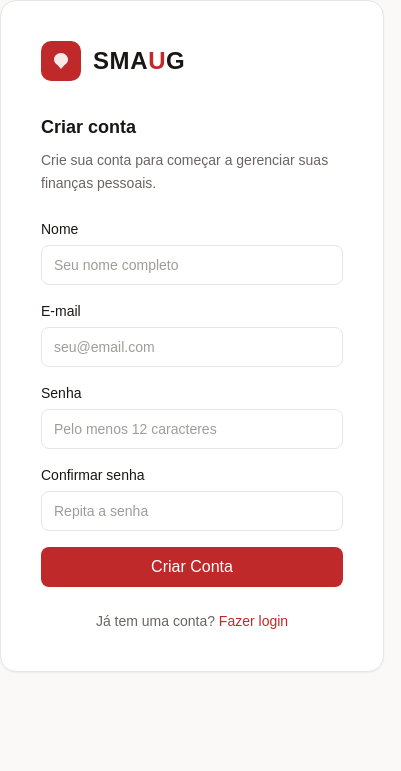
Test: página de cadastro › no TOO_MANY_REQUESTS mostra a mensagem de limite
The width and height of the screenshot is (401, 771).
Type "Maria Souza" into the field labelled "Nome" at {"x": 192, "y": 264}, box x1=41 y1=244 x2=343 y2=284
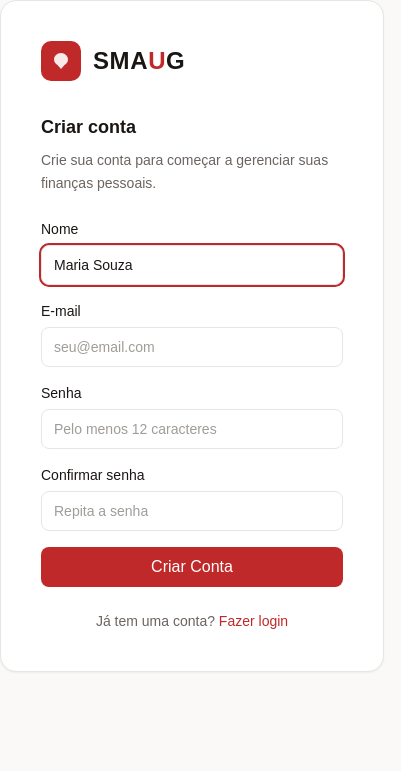
Type "maria@example.com" into the field labelled "E-mail" at {"x": 192, "y": 346}, box x1=41 y1=326 x2=343 y2=366
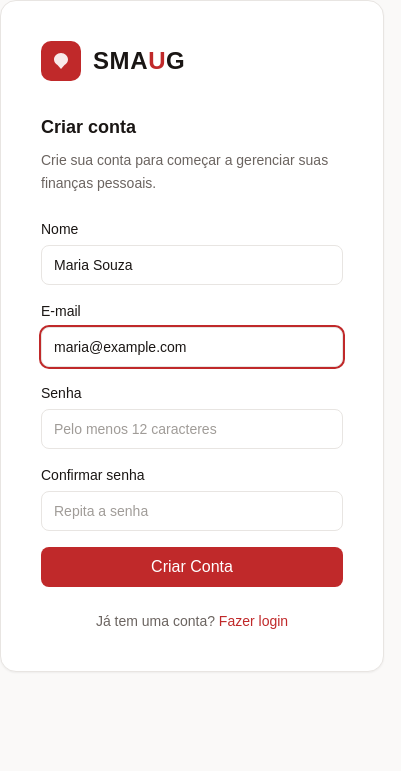
Type "senha muito segura" into the password field labelled "Senha" at {"x": 192, "y": 428}, box x1=41 y1=408 x2=343 y2=448
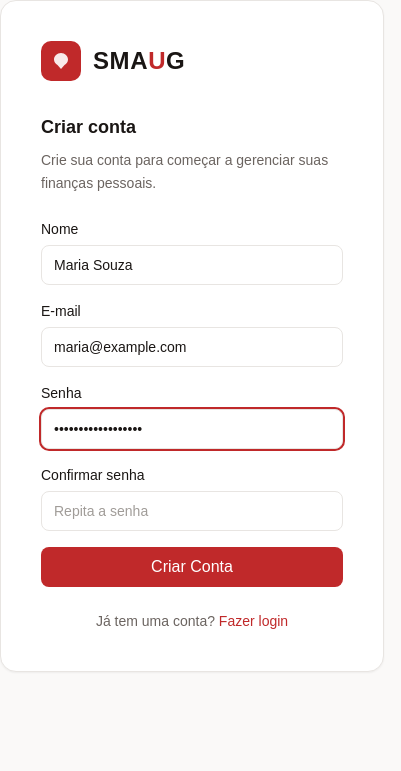
Type "senha muito segura" into the password field labelled "Confirmar senha" at {"x": 192, "y": 510}, box x1=41 y1=490 x2=343 y2=530
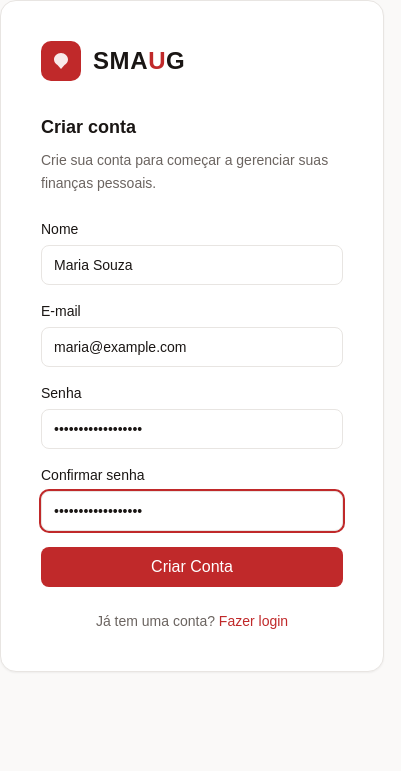
Click the button "Criar Conta" at {"x": 192, "y": 566}, box x1=41 y1=546 x2=343 y2=586
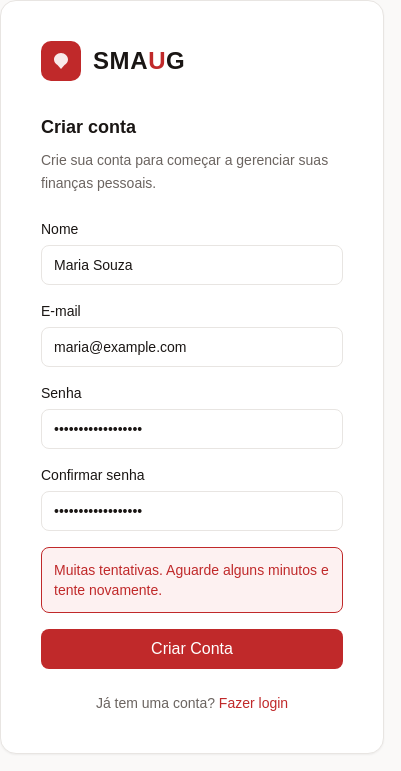
Expected: the text "Muitas tentativas. Aguarde alguns minutos e tente novamente." is shown, x1=54 y1=562 x2=329 y2=598
